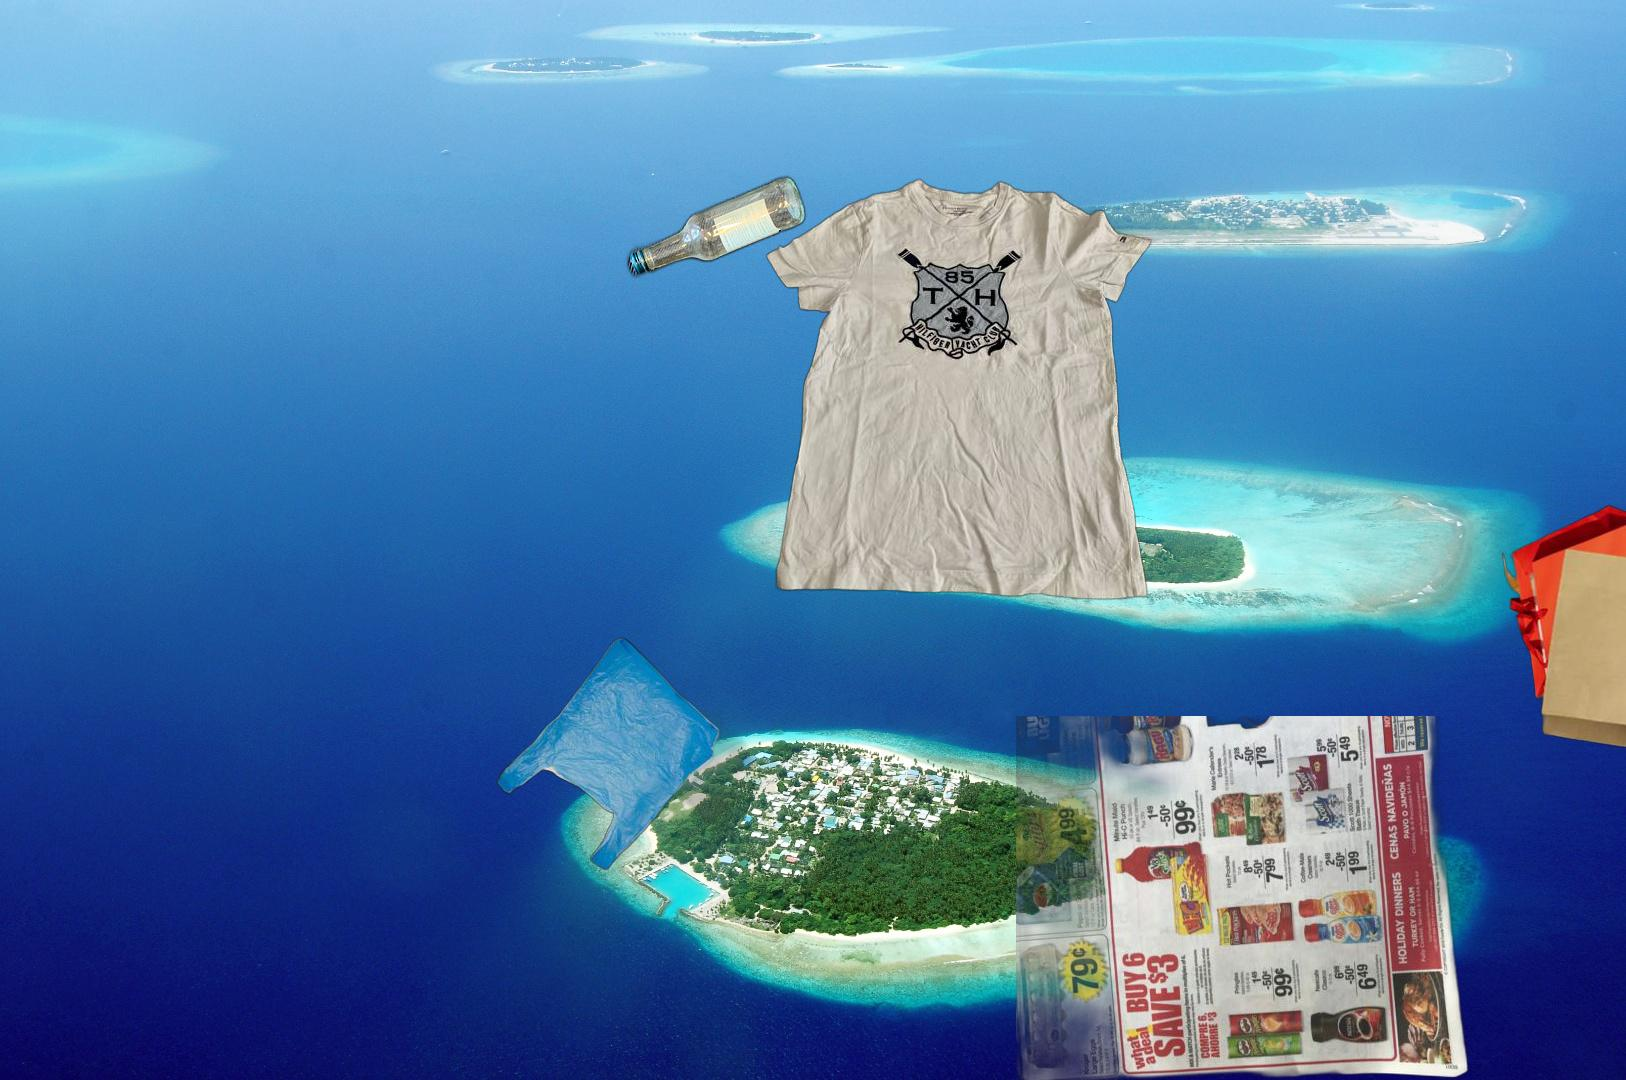clothes: (763, 175, 1156, 604)
glass: (438, 171, 810, 667)
paper: (1016, 716, 1472, 1080)
paper-bag: (1499, 503, 1626, 753)
plastic-bag: (495, 635, 771, 871)
